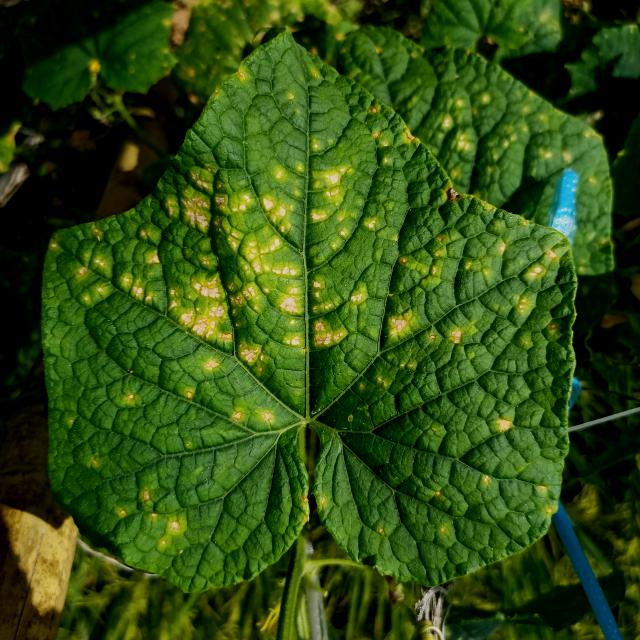disease_cucumber: (80, 102, 546, 551)
